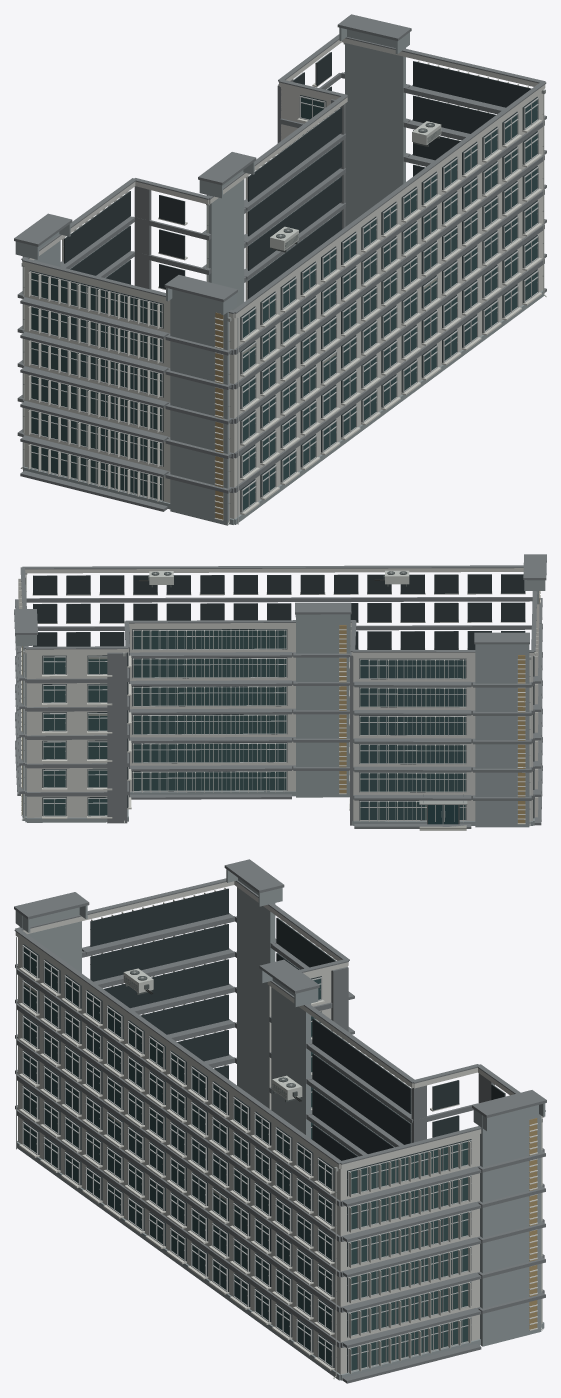
Rendered from osm_way_1173057032.glb.
3 renders of one model, top to bottom at view 1: azimuth 30°, elevation 25°; view 2: azimuth 150°, elevation 25°; view 3: azimuth 270°, elevation 25°, orthographic. The views are drawn at different scales.
Visible parts, largest first — view 1: Windows and facade details | 樱苑53栋, Architecture | 樱苑53栋, Roof services | 樱苑53栋, EXTERIOR::osm_way_1173057032::rainwater and roof service det; view 2: Architecture | 樱苑53栋, Windows and facade details | 樱苑53栋, Roof services | 樱苑53栋, EXTERIOR::osm_way_1173057032::rainwater and roof service det, EXTERIOR::osm_way_1173057032::inferred entry doors canopy an; view 3: Windows and facade details | 樱苑53栋, Architecture | 樱苑53栋, Roof services | 樱苑53栋, EXTERIOR::osm_way_1173057032::rainwater and roof service det.
Part boxes in pixels (<box>): Windows and facade details | 樱苑53栋: <box>28,52,541,524</box>; Architecture | 樱苑53栋: <box>17,29,546,525</box>; Roof services | 樱苑53栋: <box>14,14,546,315</box>; EXTERIOR::osm_way_1173057032::rainwater and roof service det: <box>20,43,546,524</box>; Architecture | 樱苑53栋: <box>15,568,542,828</box>; Windows and facade details | 樱苑53栋: <box>18,574,540,824</box>; Roof services | 樱苑53栋: <box>14,554,546,655</box>; EXTERIOR::osm_way_1173057032::rainwater and roof service det: <box>22,570,531,826</box>; EXTERIOR::osm_way_1173057032::inferred entry doors canopy an: <box>419,794,467,830</box>; Windows and facade details | 樱苑53栋: <box>16,887,537,1373</box>; Architecture | 樱苑53栋: <box>15,878,545,1383</box>; Roof services | 樱苑53栋: <box>14,859,546,1164</box>; EXTERIOR::osm_way_1173057032::rainwater and roof service det: <box>123,968,542,1378</box>.
Size of the model in its own units: 56.67 by 21.28 by 43.76.
